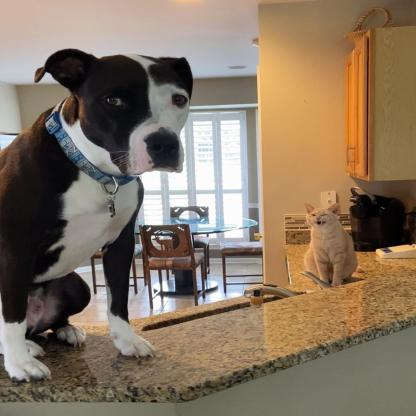cat: (296, 199, 357, 287)
dog: (0, 46, 199, 386)
